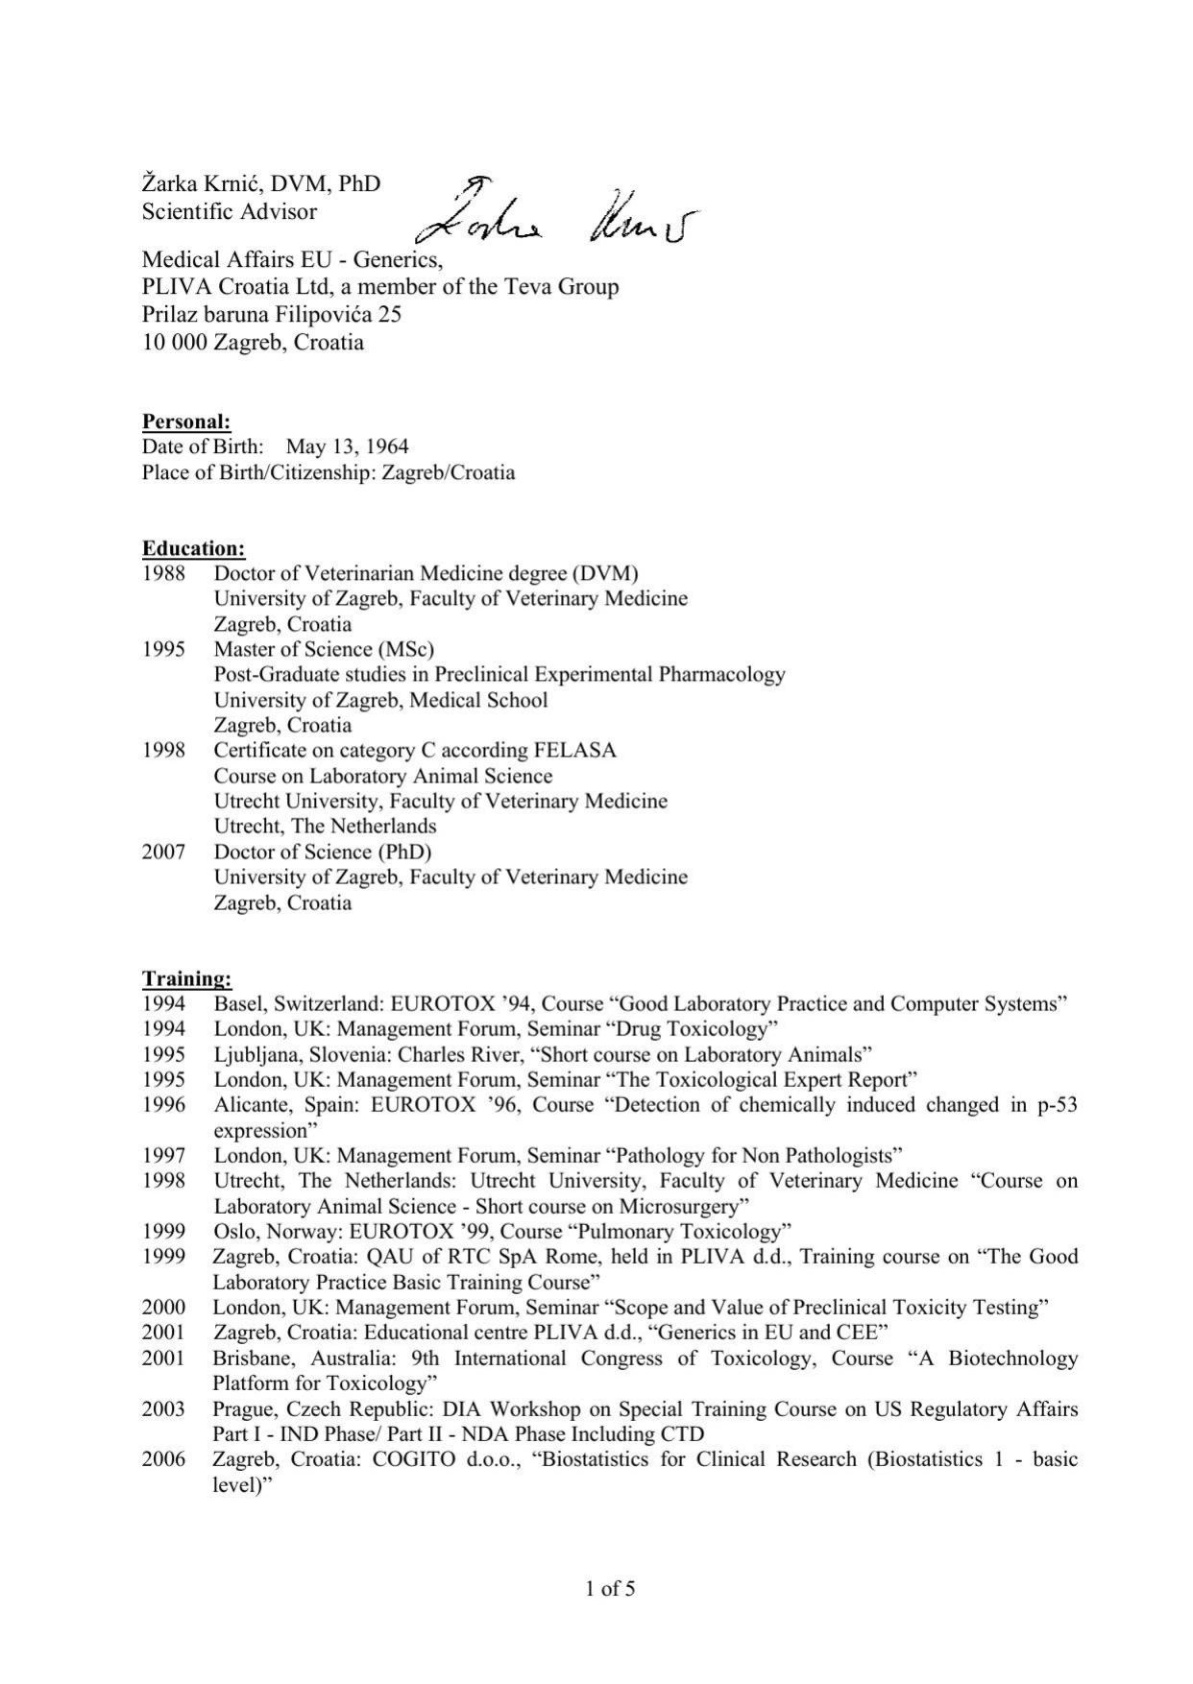nolines: (139, 994, 1086, 1501), (141, 563, 786, 916)
